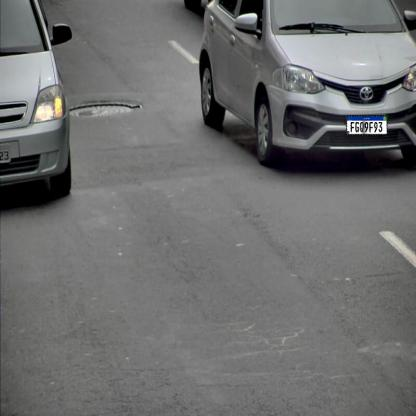PlacaM: (346, 115, 388, 135)
